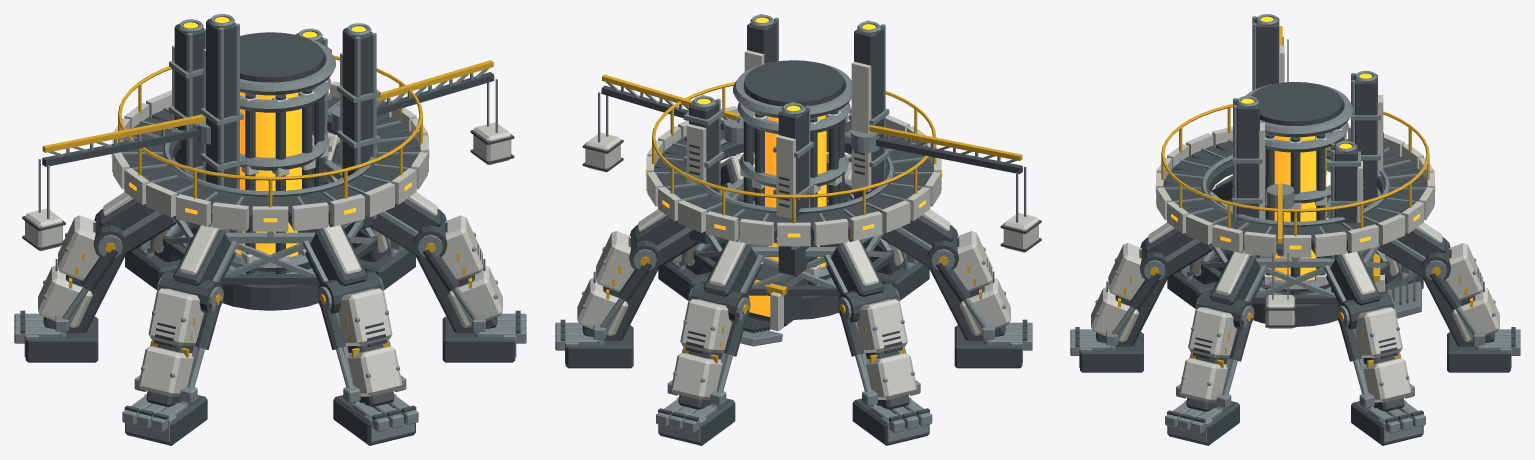
File: foundry_zero_v1.glb
The picture shows the model from 3 angles, left to right: view 1: azimuth 30°, elevation 25°; view 2: azimuth 150°, elevation 25°; view 3: azimuth 270°, elevation 25°; orthographic projection. The views are drawn at different scales.
Visible parts, largest first — view 1: foundry_zero_batch_foundry_zero_industrial_graphite, foundry_zero_batch_foundry_zero_ceramic_white, foundry_zero_batch_foundry_zero_machined_gray, foundry_zero_batch_foundry_zero_warning_yellow, foundry_zero_batch_foundry_zero_furnace_amber; view 2: foundry_zero_batch_foundry_zero_industrial_graphite, foundry_zero_batch_foundry_zero_ceramic_white, foundry_zero_batch_foundry_zero_machined_gray, foundry_zero_batch_foundry_zero_warning_yellow, foundry_zero_batch_foundry_zero_furnace_amber; view 3: foundry_zero_batch_foundry_zero_industrial_graphite, foundry_zero_batch_foundry_zero_ceramic_white, foundry_zero_batch_foundry_zero_machined_gray, foundry_zero_batch_foundry_zero_warning_yellow, foundry_zero_batch_foundry_zero_furnace_amber.
Part boxes in pixels (box(x1,y1,x2,y2)): foundry_zero_batch_foundry_zero_industrial_graphite: box(20, 19, 520, 445); foundry_zero_batch_foundry_zero_ceramic_white: box(25, 45, 511, 396); foundry_zero_batch_foundry_zero_machined_gray: box(14, 14, 526, 441); foundry_zero_batch_foundry_zero_warning_yellow: box(42, 55, 493, 357); foundry_zero_batch_foundry_zero_furnace_amber: box(111, 17, 429, 258); foundry_zero_batch_foundry_zero_industrial_graphite: box(560, 19, 1041, 445); foundry_zero_batch_foundry_zero_ceramic_white: box(577, 50, 1038, 399); foundry_zero_batch_foundry_zero_machined_gray: box(555, 14, 1032, 442); foundry_zero_batch_foundry_zero_warning_yellow: box(601, 74, 1022, 363); foundry_zero_batch_foundry_zero_furnace_amber: box(645, 17, 942, 316); foundry_zero_batch_foundry_zero_industrial_graphite: box(1075, 17, 1515, 445); foundry_zero_batch_foundry_zero_ceramic_white: box(1091, 45, 1499, 402); foundry_zero_batch_foundry_zero_machined_gray: box(1070, 14, 1520, 442); foundry_zero_batch_foundry_zero_warning_yellow: box(1118, 26, 1472, 368); foundry_zero_batch_foundry_zero_furnace_amber: box(1155, 16, 1435, 280).
Size of the model in its own units: 9.6 by 6.97 by 8.96.
